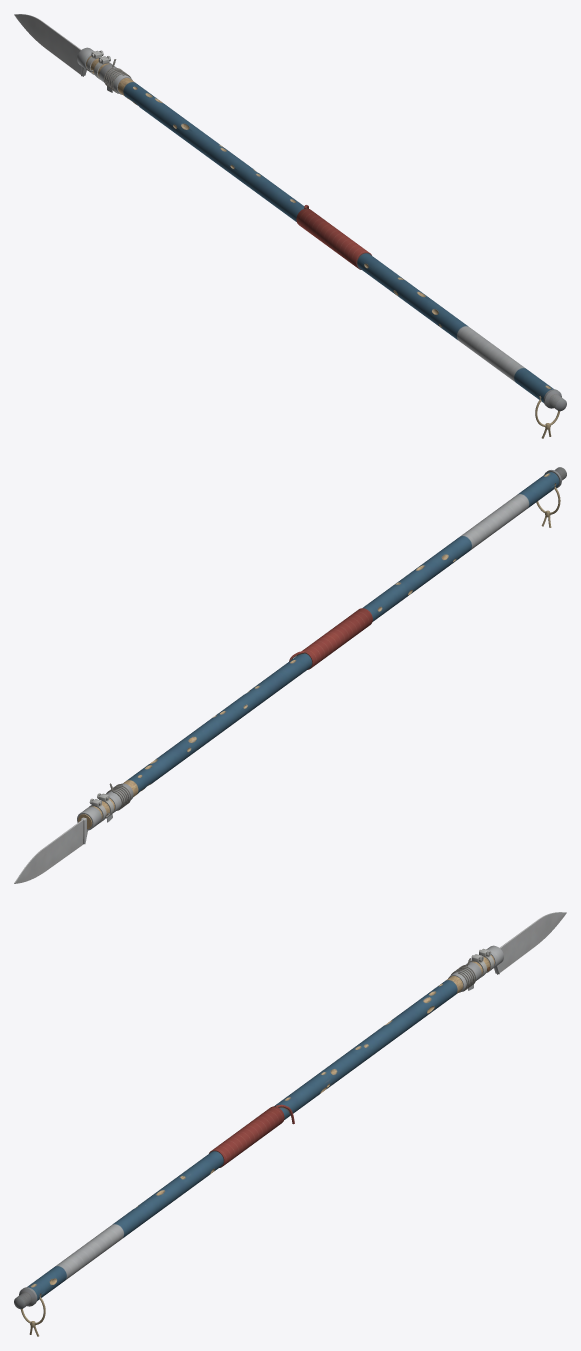
File: lanca_improvisada.glb
3 renders of one model, top to bottom at view 1: azimuth 30°, elevation 25°; view 2: azimuth 150°, elevation 25°; view 3: azimuth 330°, elevation 25°, orthographic.
Parts seen in each view (by area): view 1: lanca_improvisada_cabo, lanca_improvisada_faca, lanca_improvisada_amarracao; view 2: lanca_improvisada_cabo, lanca_improvisada_faca, lanca_improvisada_amarracao; view 3: lanca_improvisada_cabo, lanca_improvisada_faca, lanca_improvisada_amarracao.
Part boxes in pixels (<box>): lanca_improvisada_cabo: <box>86,56,566,438</box>; lanca_improvisada_faca: <box>14,14,86,76</box>; lanca_improvisada_amarracao: <box>77,47,132,94</box>; lanca_improvisada_cabo: <box>78,467,566,829</box>; lanca_improvisada_faca: <box>14,817,87,883</box>; lanca_improvisada_amarracao: <box>77,783,133,830</box>; lanca_improvisada_cabo: <box>14,955,494,1336</box>; lanca_improvisada_faca: <box>494,912,566,974</box>; lanca_improvisada_amarracao: <box>448,945,503,992</box>.
Size of the model in its own units: 0.0416 by 0.0961 by 1.57.
Materials: 1 (1 with a texture image).
